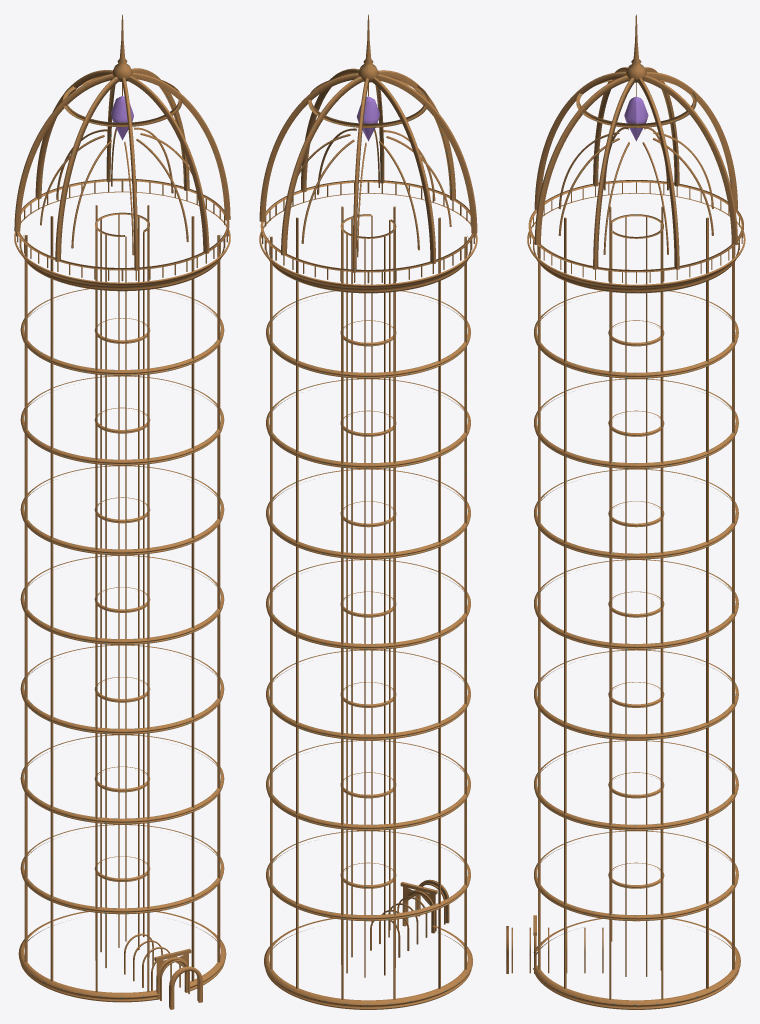
File: kt_frame_v2.glb
3 renders of one model, left to right at view 1: azimuth 30°, elevation 25°; view 2: azimuth 150°, elevation 25°; view 3: azimuth 270°, elevation 25°, orthographic.
Parts seen in each view (by area): view 1: kt_frame; view 2: kt_frame; view 3: kt_frame.
Part boxes in pixels (x1,y1,x2,y2): kt_frame: (14,14,230,1009); kt_frame: (259,14,477,1009); kt_frame: (506,14,745,1009).
Bounding box in the file's own units: 19.7 × 94.85 × 21.57.
2 materials, 1 textured.
